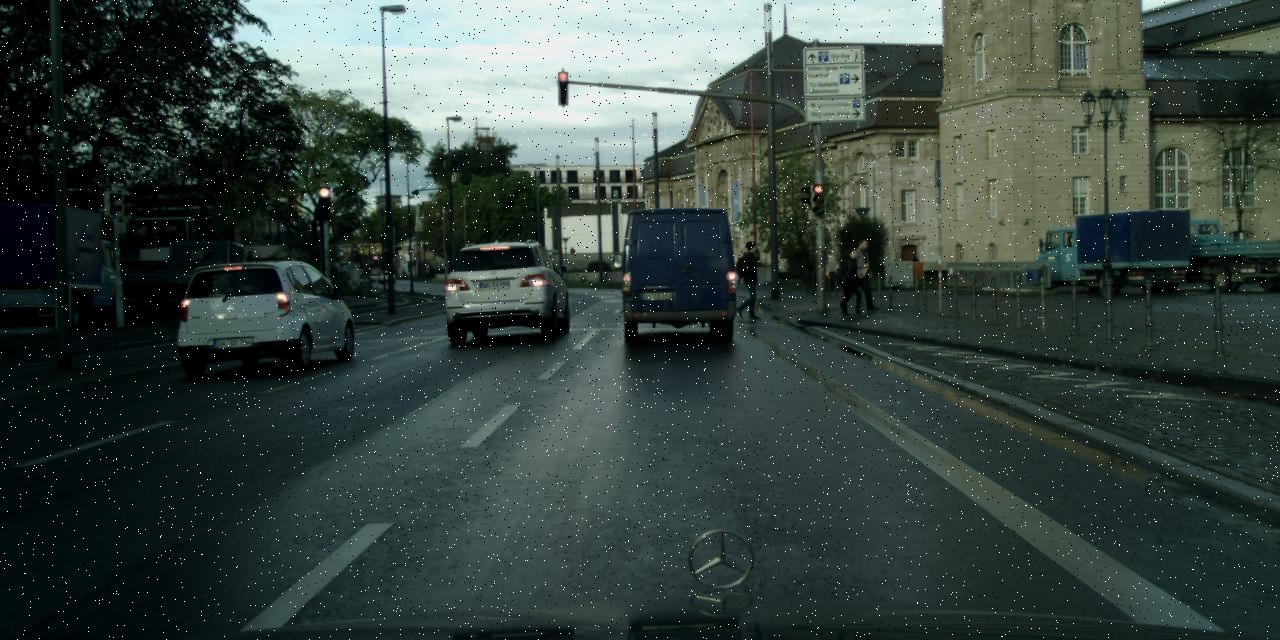ped: (733, 242, 763, 318), (838, 247, 866, 315), (911, 254, 919, 274)
